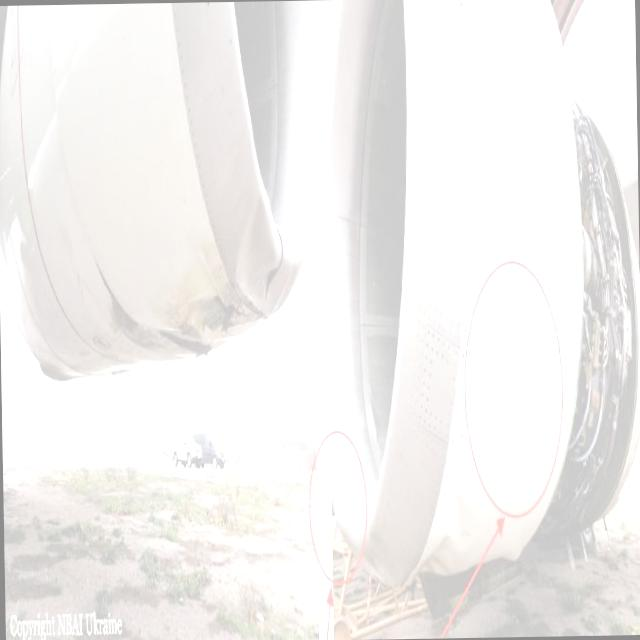crack: (520, 388, 549, 432)
dent: (408, 476, 478, 590)
